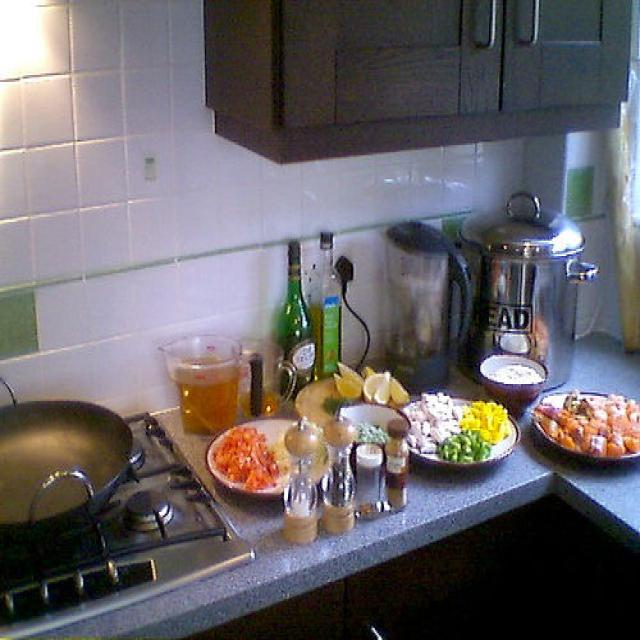bottle: (274, 230, 320, 402), (310, 221, 344, 378)
